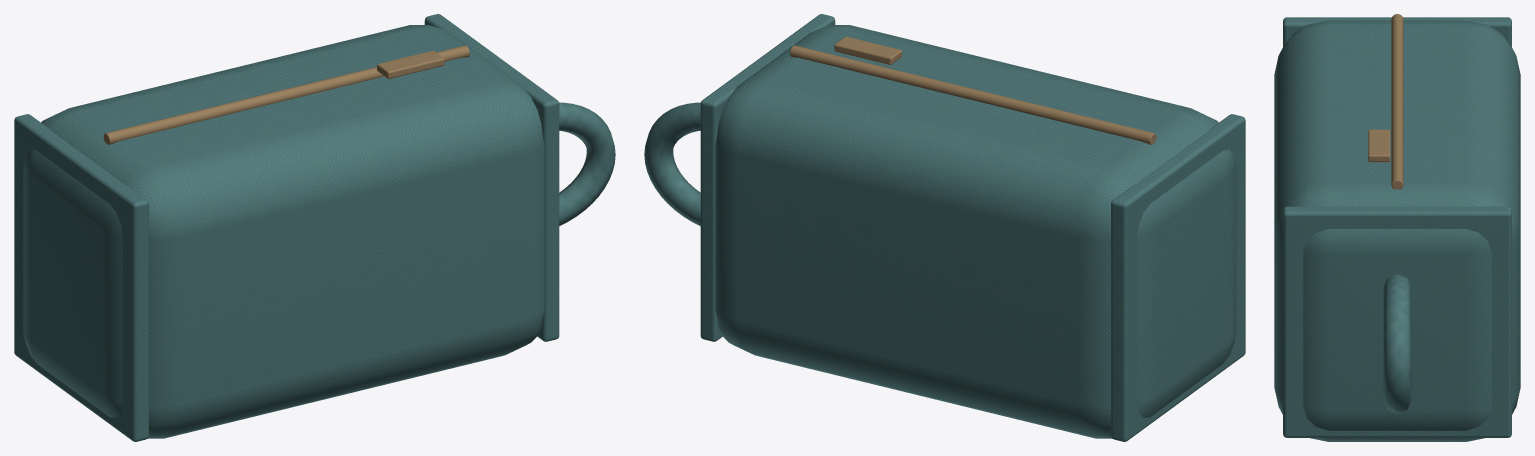
File: football-toiletry-kit.glb
The picture shows the model from 3 angles, left to right: view 1: azimuth 30°, elevation 25°; view 2: azimuth 150°, elevation 25°; view 3: azimuth 270°, elevation 25°; orthographic projection. The views are drawn at different scales.
Visible parts, largest first — view 1: Padded fabric travel shell, Reinforced bag end panel, Reinforced bag end panel.001, Wash-bag side carry loop, Zipper top seam, Zipper sliding pull; view 2: Padded fabric travel shell, Reinforced bag end panel, Reinforced bag end panel.001, Zipper top seam, Wash-bag side carry loop, Zipper sliding pull; view 3: Padded fabric travel shell, Reinforced bag end panel.001, Wash-bag side carry loop, Zipper top seam, Reinforced bag end panel, Zipper sliding pull.
Part boxes in pixels (<box>): Padded fabric travel shell: <box>23,25,544,438</box>; Reinforced bag end panel: <box>14,114,148,441</box>; Reinforced bag end panel.001: <box>424,14,559,341</box>; Wash-bag side carry loop: <box>559,102,615,225</box>; Zipper top seam: <box>103,45,469,144</box>; Zipper sliding pull: <box>377,50,444,78</box>; Padded fabric travel shell: <box>715,25,1236,438</box>; Reinforced bag end panel: <box>1111,114,1245,441</box>; Reinforced bag end panel.001: <box>700,14,835,341</box>; Zipper top seam: <box>790,45,1156,144</box>; Wash-bag side carry loop: <box>644,102,700,225</box>; Zipper sliding pull: <box>834,36,901,64</box>; Padded fabric travel shell: <box>1274,20,1520,441</box>; Reinforced bag end panel.001: <box>1283,206,1511,437</box>; Wash-bag side carry loop: <box>1383,274,1411,413</box>; Zipper top seam: <box>1391,14,1403,189</box>; Reinforced bag end panel: <box>1283,17,1511,46</box>; Zipper sliding pull: <box>1368,129,1390,162</box>.
Bounding box in the file's own units: 0.296 × 0.147 × 0.122.
Materials: 2 (2 with a texture image).
